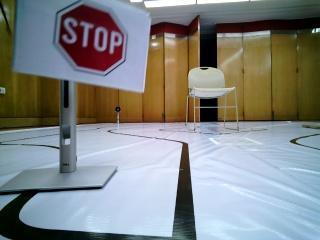stop: (26, 4, 144, 90)
